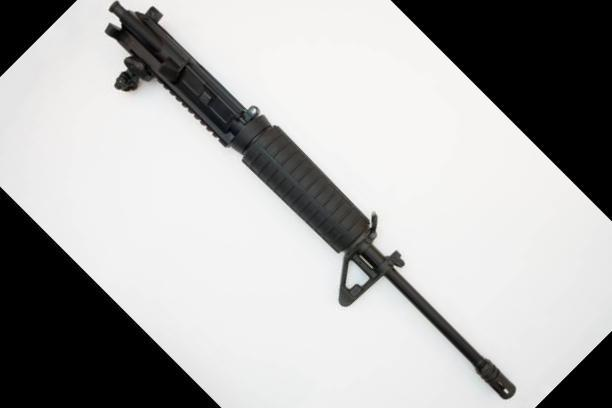larga: (104, 1, 519, 402)
